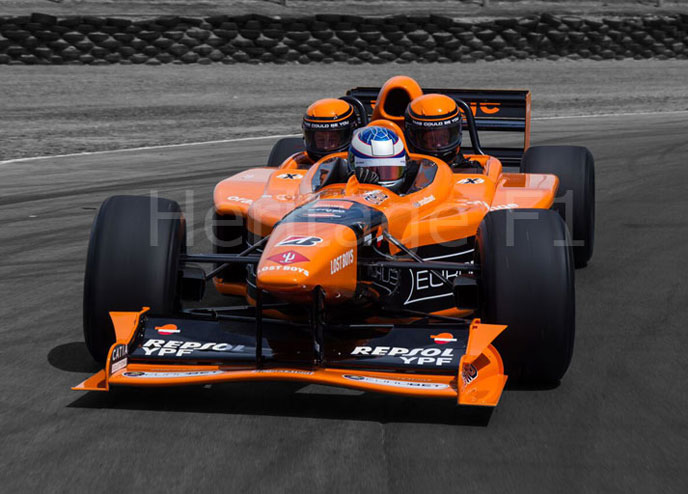f1_car: (63, 76, 613, 435)
